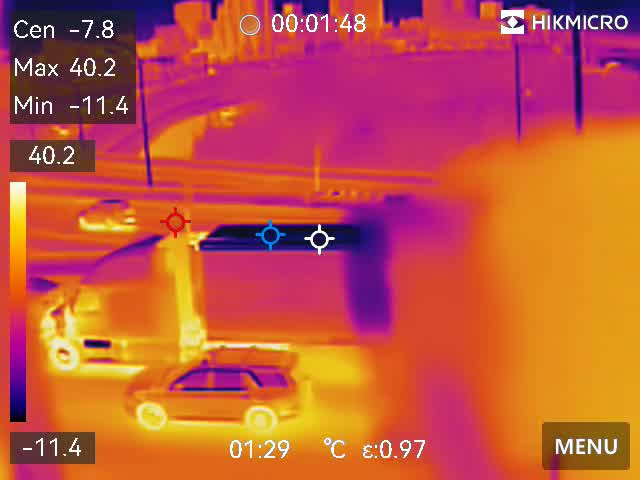heavyTruck: (29, 226, 416, 368)
largeCar: (125, 352, 305, 432)
vehicle: (72, 197, 141, 229)
